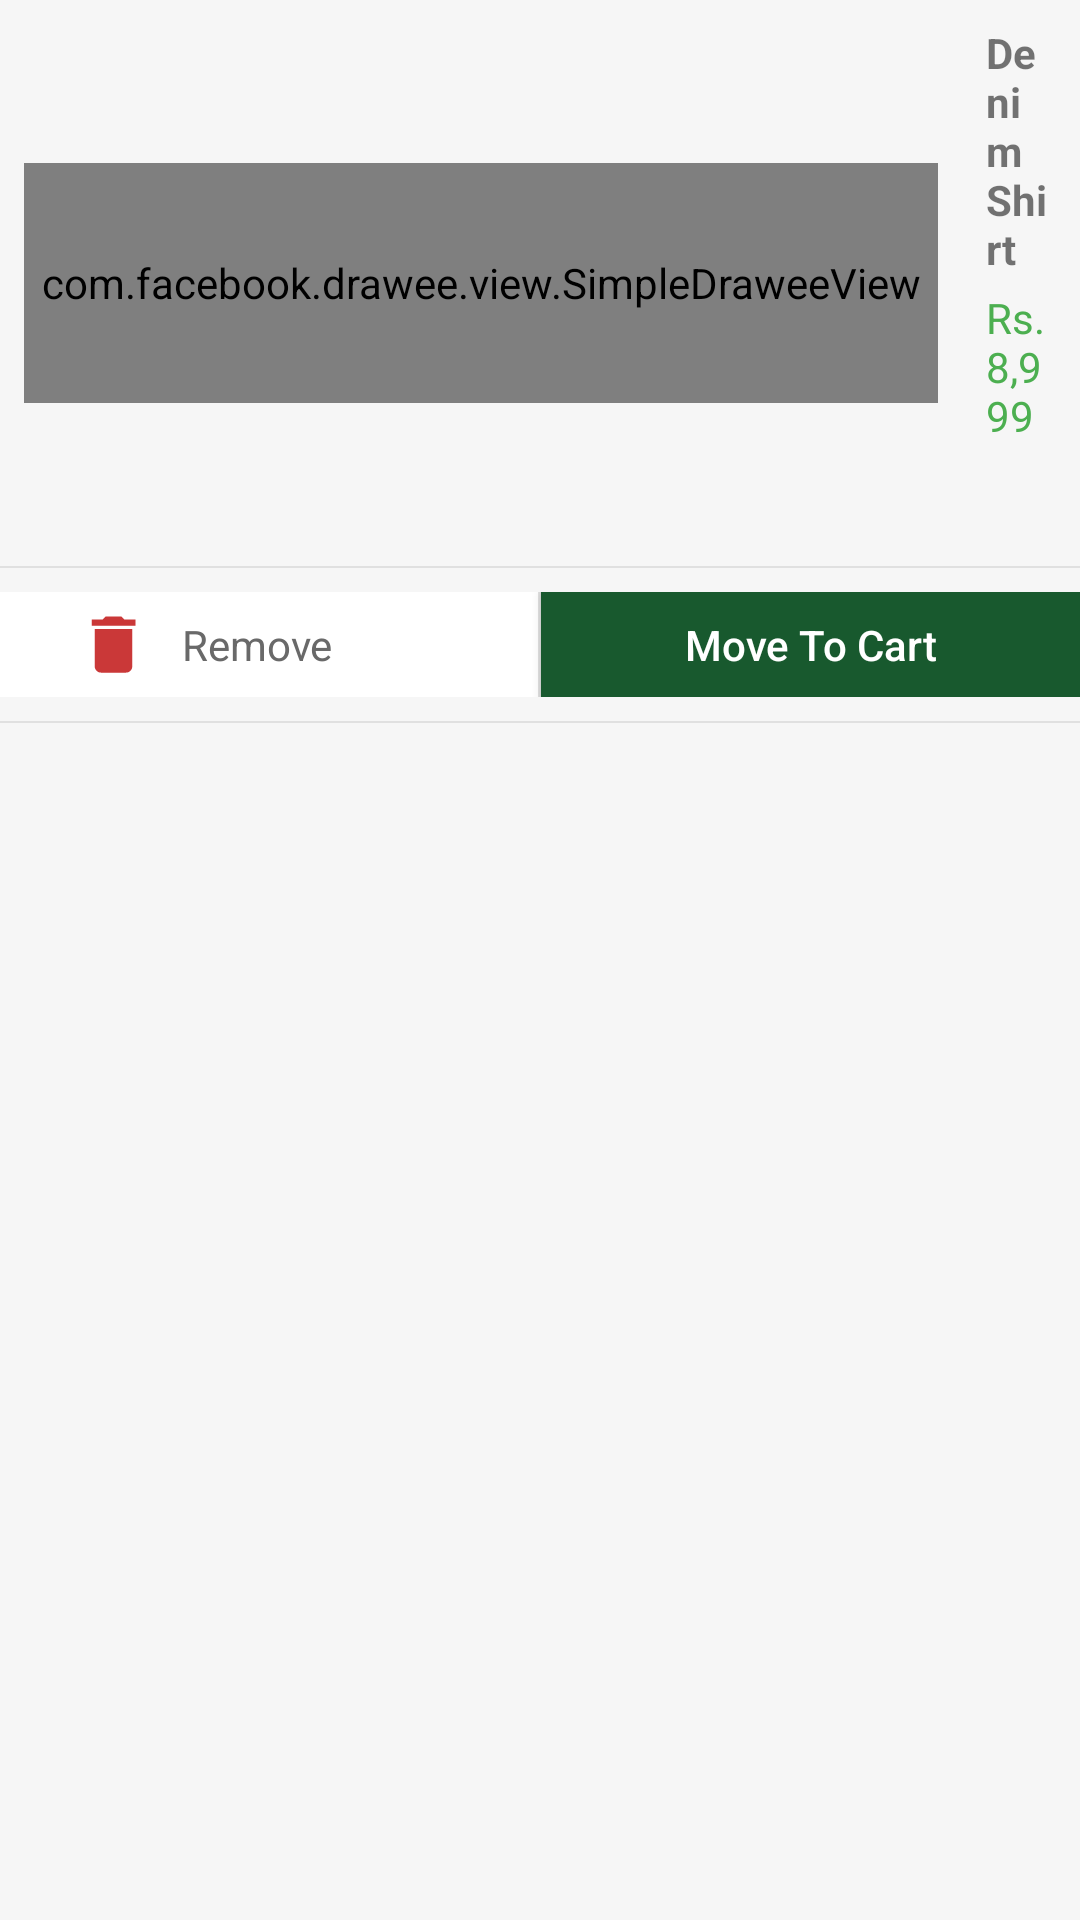

Icon bounding boxes for this 1080 × 1920 phone screenshot, format {"left": x1, "top": y1, "right": x2, "bottom": y2}:
delete: {"left": 91, "top": 616, "right": 136, "bottom": 673}
